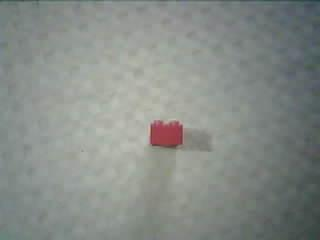lego: (148, 119, 183, 147)
